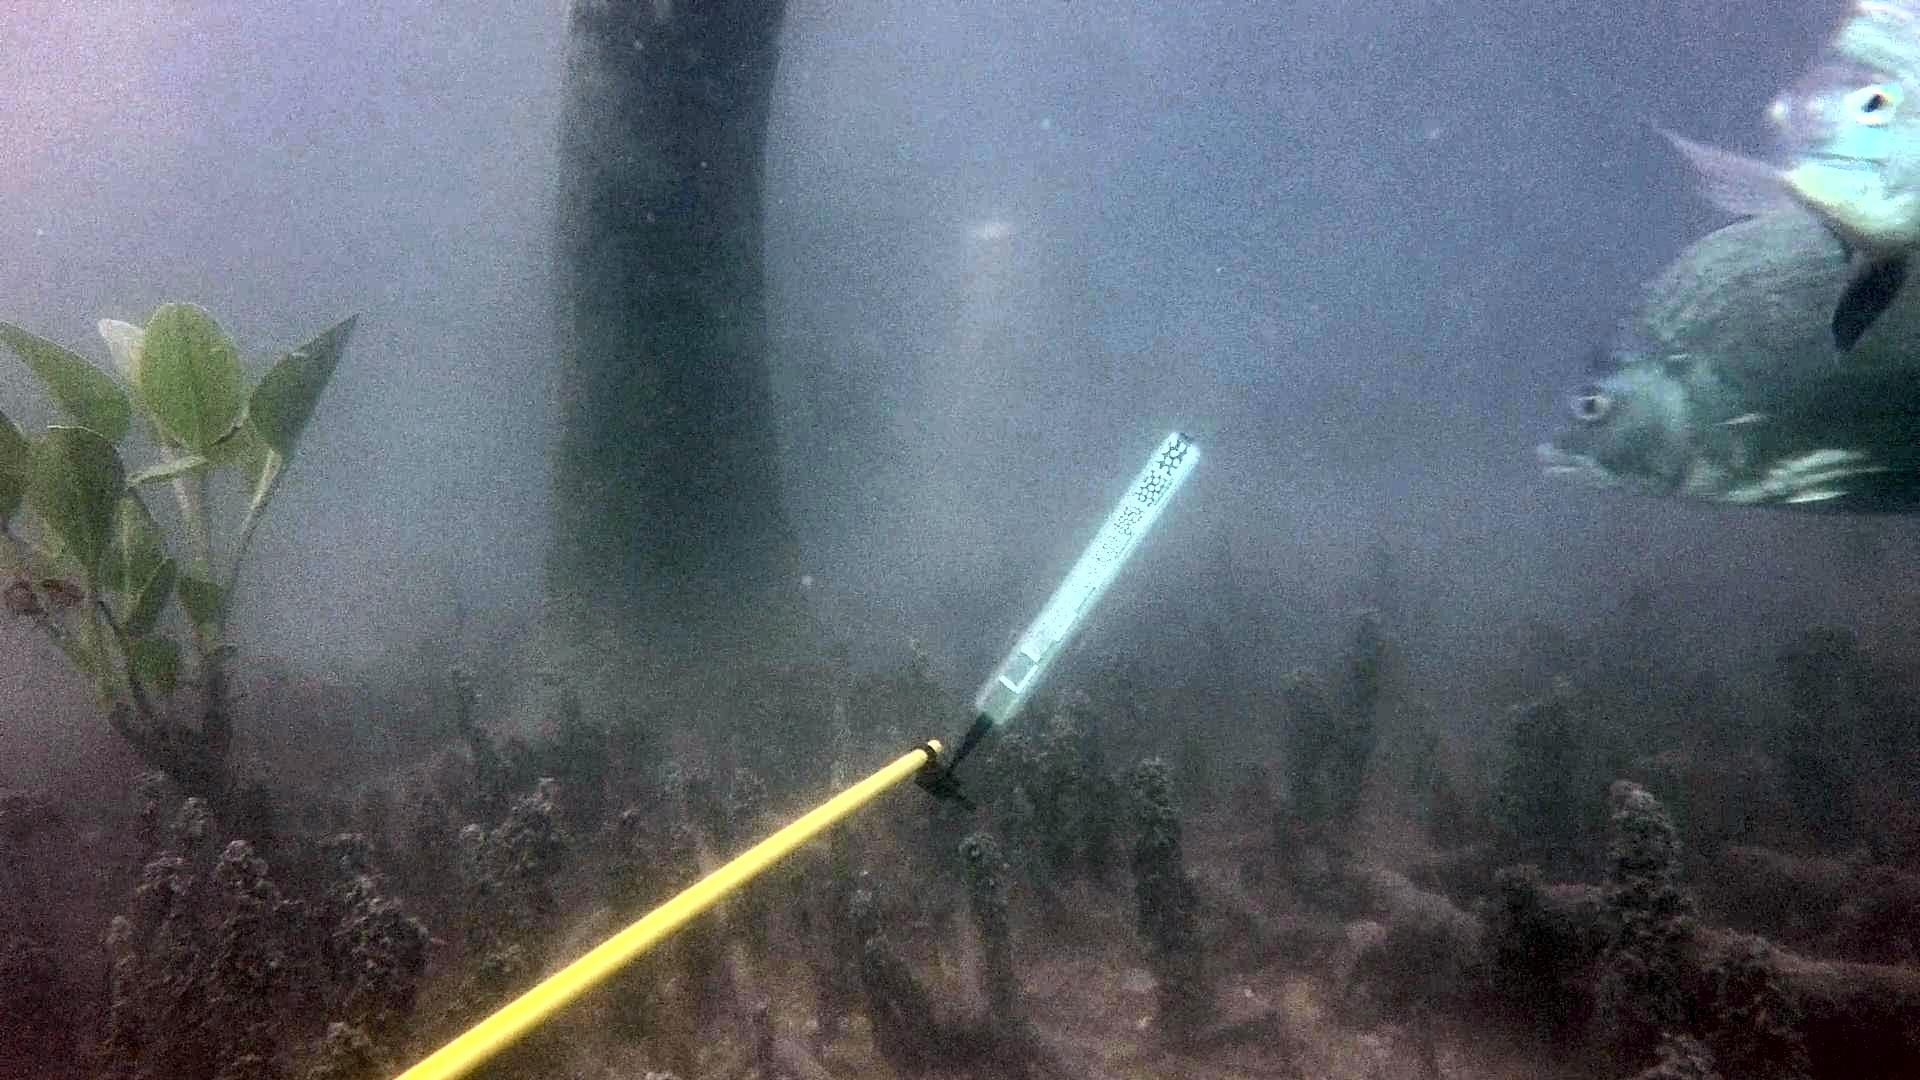acanthopagrus palmaris: (1513, 200, 1920, 531), (1640, 0, 1920, 368)
